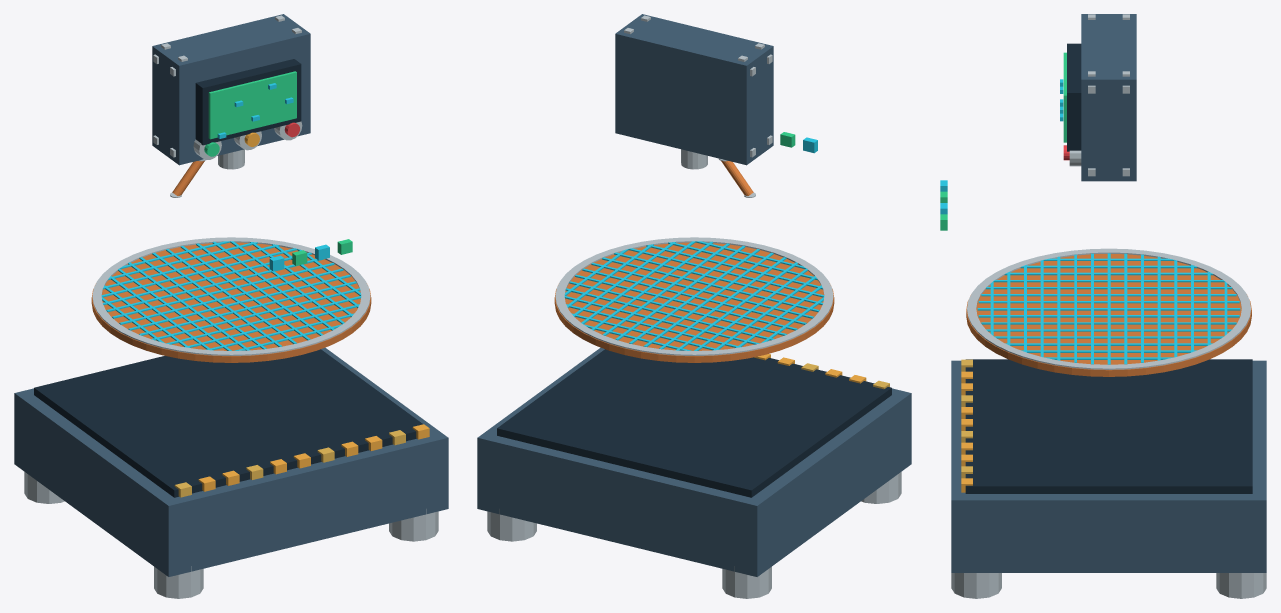
File: 35_L79_SurfaceEnergyInspectionProbe.fbx
3 renders of one model, left to right at view 1: azimuth 30°, elevation 25°; view 2: azimuth 150°, elevation 25°; view 3: azimuth 270°, elevation 25°, orthographic. The views are drawn at different scales.
Parts seen in each view (by area): view 1: SurfaceEnergyInspectionProbe; view 2: SurfaceEnergyInspectionProbe; view 3: SurfaceEnergyInspectionProbe.
Boxes of the visible parts, <box> form: SurfaceEnergyInspectionProbe: <box>14,14,448,598</box>; SurfaceEnergyInspectionProbe: <box>477,14,911,598</box>; SurfaceEnergyInspectionProbe: <box>940,14,1266,598</box>.
Bounding box in the file's own units: 111 × 180 × 110.
